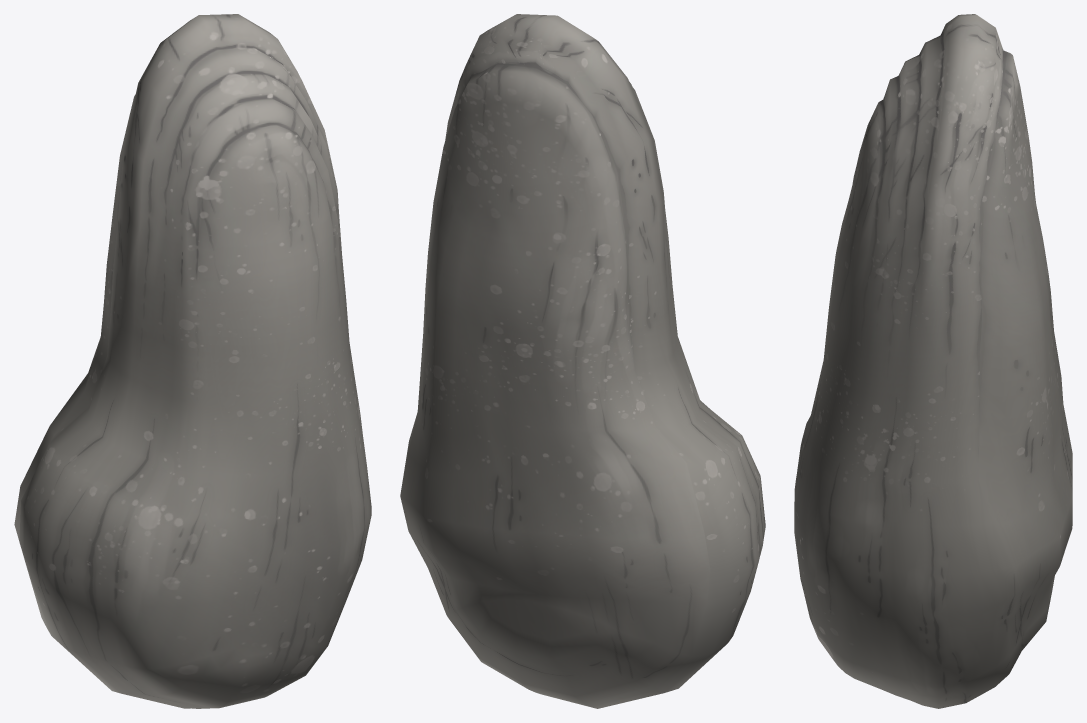
The model's file is Boulder1.fbx.
3 views of the same model, side by side, from view 1: azimuth 30°, elevation 25°; view 2: azimuth 150°, elevation 25°; view 3: azimuth 270°, elevation 25° (orthographic). The views are drawn at different scales.
Parts seen in each view (by area): view 1: BoulderBeach; view 2: BoulderBeach; view 3: BoulderBeach.
Boxes of the visible parts, x1,y1,x2,y2 form: BoulderBeach: (14, 14, 371, 708); BoulderBeach: (400, 14, 765, 708); BoulderBeach: (794, 14, 1072, 708).
Size of the model in its own units: 1097 by 2211 by 819.
